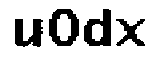0: (47, 6, 80, 49)
d: (83, 6, 115, 50)
u: (11, 13, 44, 52)
x: (115, 16, 146, 49)
